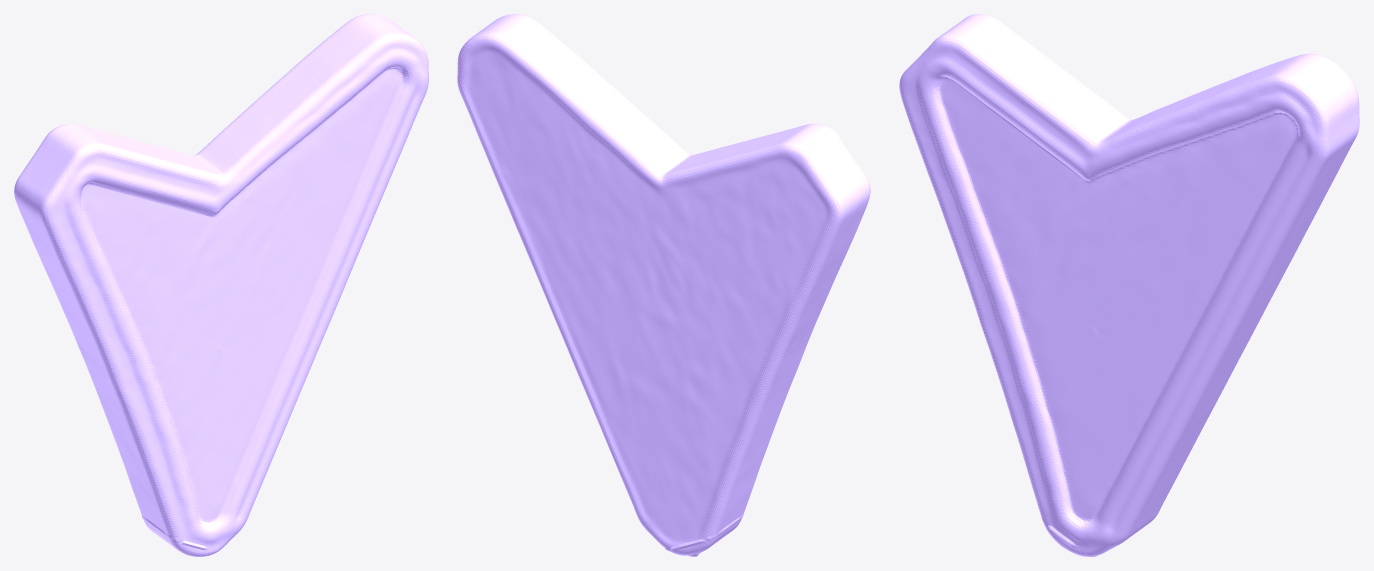
The model's file is arrowhead.glb.
The picture shows the model from 3 angles, left to right: view 1: azimuth 30°, elevation 25°; view 2: azimuth 150°, elevation 25°; view 3: azimuth 330°, elevation 25°; orthographic projection. The views are drawn at different scales.
Parts seen in each view (by area): view 1: world; view 2: world; view 3: world.
Part boxes in pixels (x1,y1,x2,y2): world: [14, 14, 428, 556]; world: [457, 14, 870, 556]; world: [899, 14, 1359, 556].
Size of the model in its own units: 1.53 by 1.8 by 0.2469.
